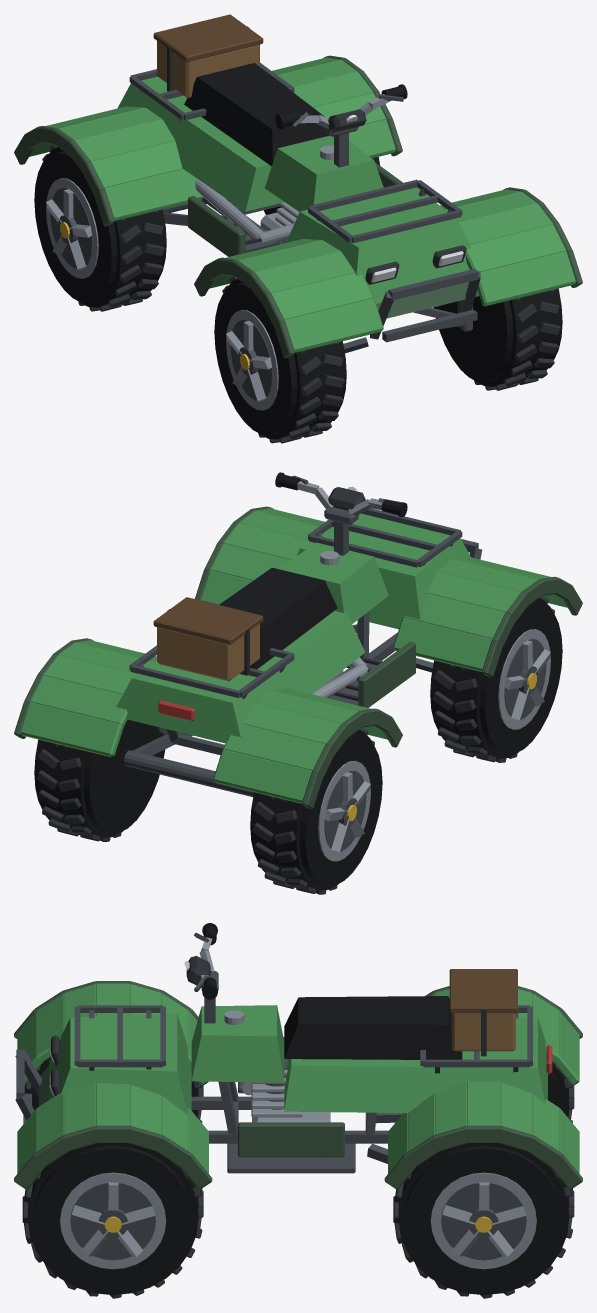
Rendered from quad.glb.
The picture shows the model from 3 angles, top to bottom: view 1: azimuth 30°, elevation 25°; view 2: azimuth 150°, elevation 25°; view 3: azimuth 270°, elevation 25°; orthographic projection. The views are drawn at different scales.
Parts seen in each view (by area): view 1: pieces_vert.002, pieces_acier_sombre.006, pieces_vert_fonce.002, pieces_noir.004, roue_arg_noir.004, roue_avg_noir.004, roue_avd_noir.004, pieces_bois_sombre.004, pieces_acier.006, roue_avg_acier.004, roue_arg_acier.004, roue_avg_fonte.004 (+7 smaller); view 2: pieces_vert.002, pieces_acier_sombre.006, pieces_vert_fonce.002, roue_ard_noir.004, roue_arg_noir.004, roue_avg_noir.004, pieces_noir.004, pieces_bois.006, pieces_bois_sombre.004, roue_arg_acier.004, roue_avg_acier.004, roue_arg_fonte.004 (+6 smaller); view 3: pieces_vert.002, pieces_vert_fonce.002, roue_avd_noir.004, roue_ard_noir.004, pieces_acier_sombre.006, pieces_noir.004, roue_avd_acier.004, roue_ard_acier.004, roue_avd_acier_sombre.004, roue_ard_acier_sombre.004, pieces_bois_sombre.004, pieces_acier.006 (+5 smaller).
Boxes of the visible parts, x1,y1,x2,y2 form: pieces_vert.002: [29, 57, 575, 352]; pieces_acier_sombre.006: [129, 63, 480, 353]; pieces_vert_fonce.002: [14, 55, 582, 358]; pieces_noir.004: [184, 63, 407, 166]; roue_arg_noir.004: [34, 147, 166, 307]; roue_avg_noir.004: [214, 279, 346, 439]; roue_avd_noir.004: [433, 288, 562, 386]; pieces_bois_sombre.004: [153, 14, 263, 62]; pieces_acier.006: [195, 94, 391, 243]; roue_avg_acier.004: [226, 310, 278, 410]; roue_arg_acier.004: [46, 178, 98, 278]; roue_avg_fonte.004: [222, 276, 344, 443]; pieces_vert.002: [21, 508, 567, 803]; pieces_acier_sombre.006: [124, 475, 482, 796]; pieces_vert_fonce.002: [14, 506, 582, 809]; roue_ard_noir.004: [34, 719, 165, 837]; roue_arg_noir.004: [250, 730, 382, 890]; roue_avg_noir.004: [430, 598, 562, 758]; pieces_noir.004: [219, 472, 407, 669]; pieces_bois.006: [157, 623, 259, 681]; pieces_bois_sombre.004: [153, 597, 263, 644]; roue_arg_acier.004: [318, 761, 370, 861]; roue_avg_acier.004: [498, 629, 550, 729]; roue_arg_fonte.004: [252, 728, 374, 894]; pieces_vert.002: [17, 983, 579, 1173]; pieces_vert_fonce.002: [14, 981, 582, 1189]; roue_avd_noir.004: [27, 1143, 198, 1294]; roue_ard_noir.004: [398, 1143, 569, 1294]; pieces_acier_sombre.006: [15, 932, 532, 1173]; pieces_noir.004: [202, 923, 462, 1059]; roue_avd_acier.004: [60, 1172, 166, 1269]; roue_ard_acier.004: [430, 1172, 536, 1269]; roue_avd_acier_sombre.004: [70, 1183, 155, 1260]; roue_ard_acier_sombre.004: [441, 1183, 526, 1260]; pieces_bois_sombre.004: [449, 969, 517, 1013]; pieces_acier.006: [199, 937, 330, 1158].
Bounding box in the file's own units: 1.23 × 1.08 × 2.
